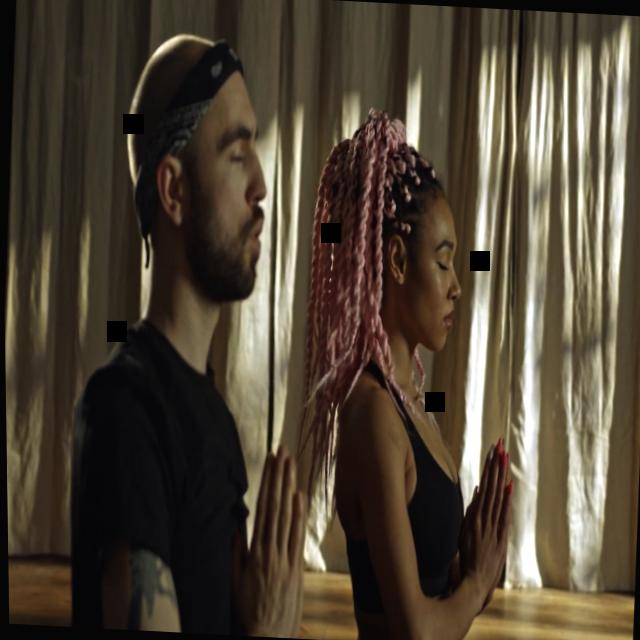NO-Mask: (171, 86, 272, 304), (397, 196, 469, 356)
